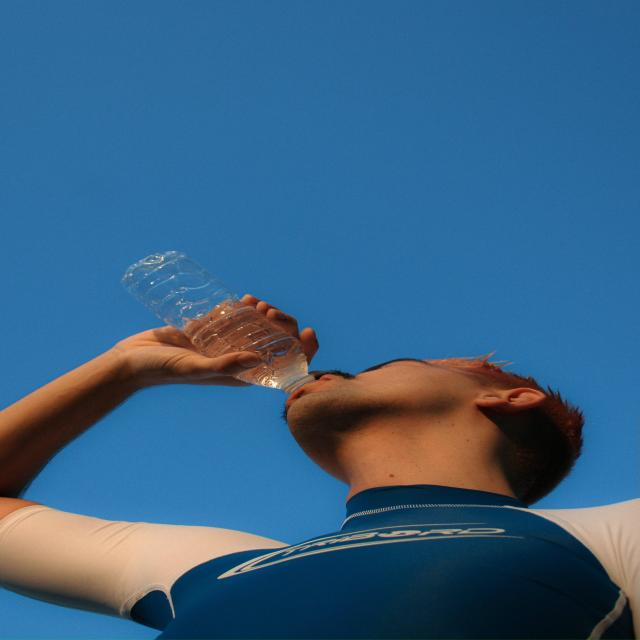bottle: (114, 248, 316, 395)
